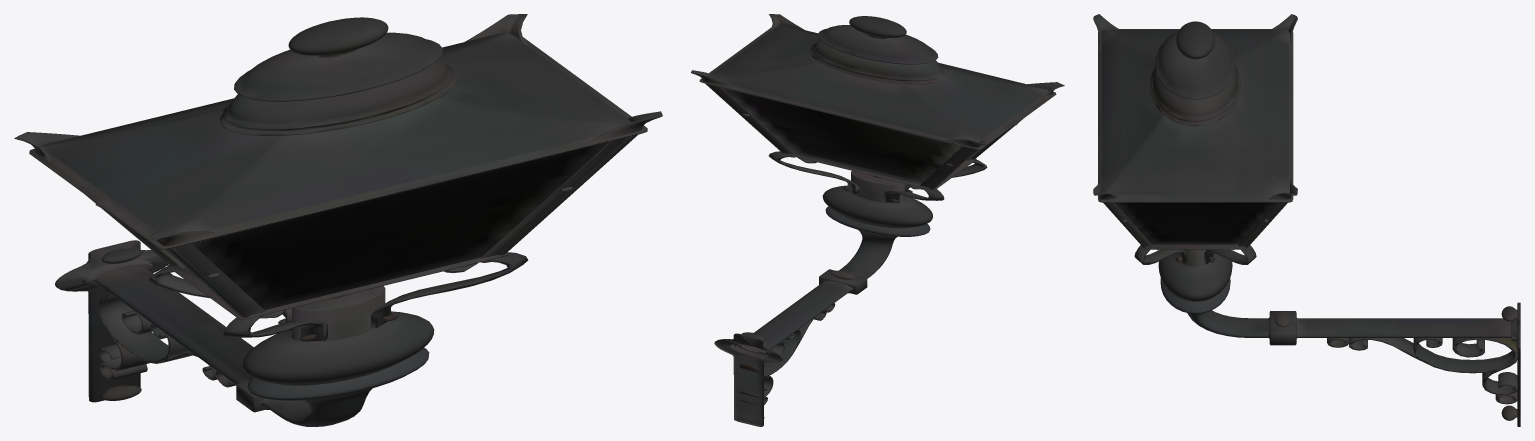
The model's file is ph-street-lamp-02.glb.
3 renders of one model, left to right at view 1: azimuth 30°, elevation 25°; view 2: azimuth 150°, elevation 25°; view 3: azimuth 270°, elevation 25°, orthographic. The views are drawn at different scales.
Parts seen in each view (by area): view 1: street_lamp_02; view 2: street_lamp_02; view 3: street_lamp_02.
Boxes of the visible parts, box(x1,y1,x2,y2) form: street_lamp_02: box(14, 14, 662, 426); street_lamp_02: box(691, 14, 1064, 426); street_lamp_02: box(1093, 14, 1520, 426).
Bounding box in the file's own units: 0.9999 × 0.9994 × 0.9998.
2 materials, 2 textured.
